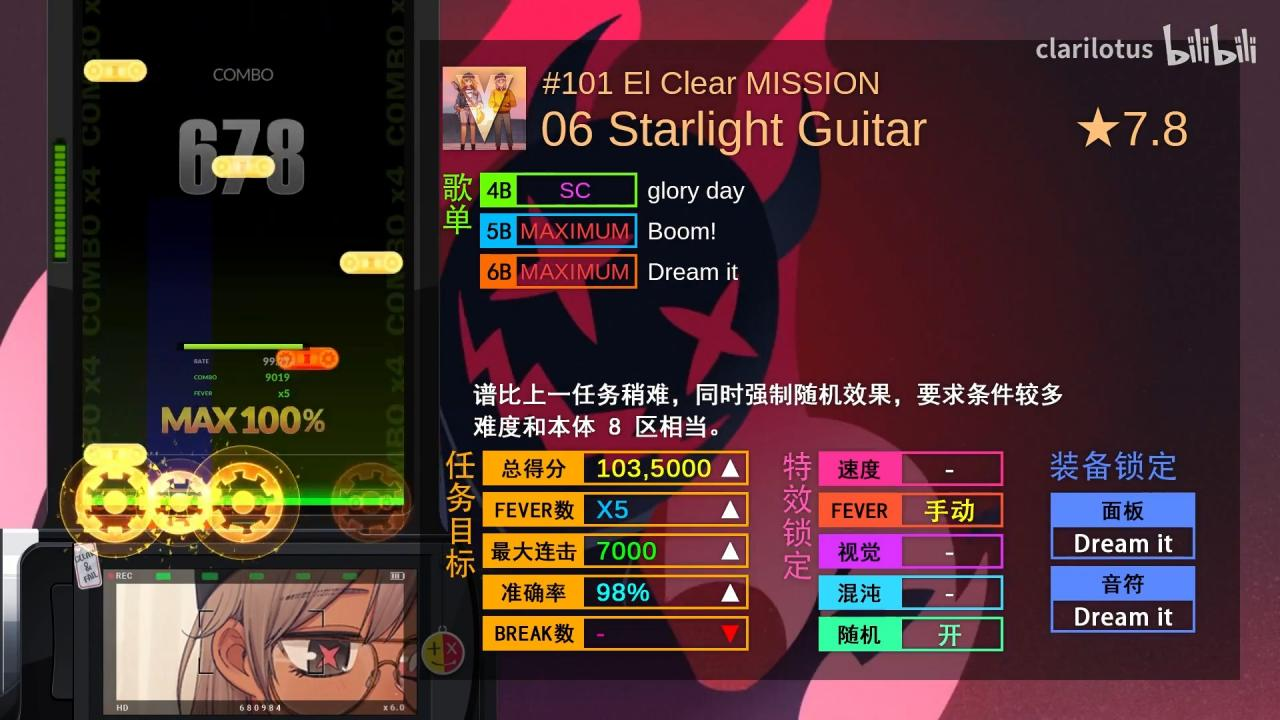note: (339, 251, 404, 275), (84, 443, 148, 467), (277, 346, 338, 370), (213, 155, 275, 178), (85, 60, 146, 82)
